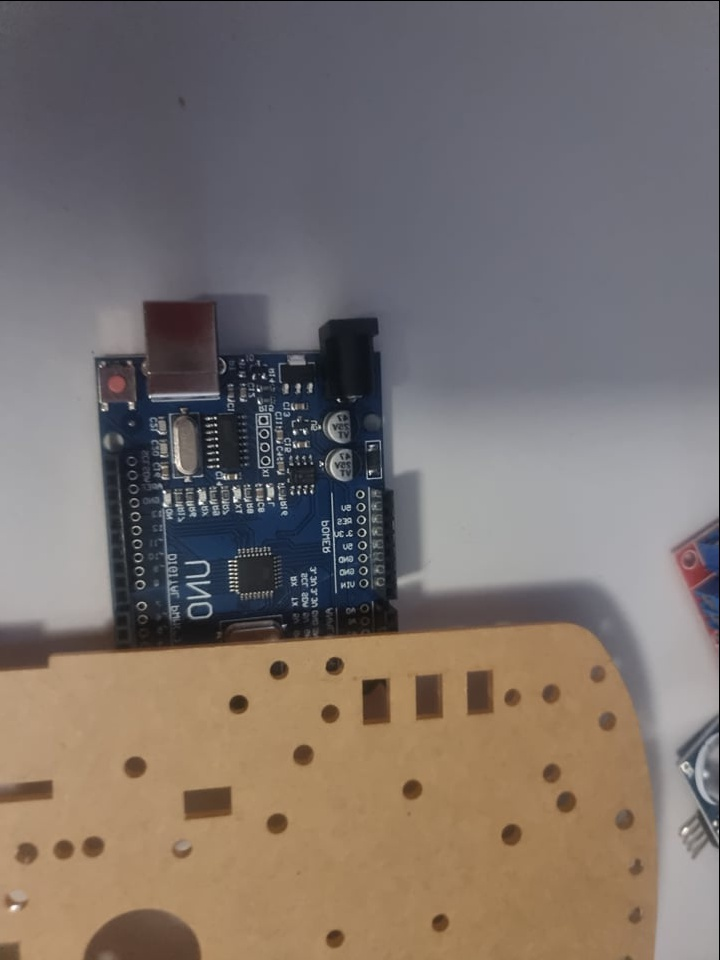UNO R3: (83, 298, 408, 643)
